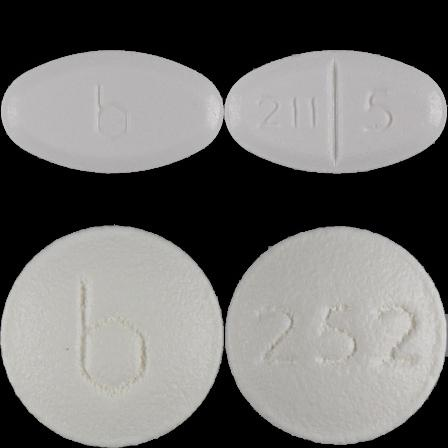0555-0211: (0, 0, 224, 224)
